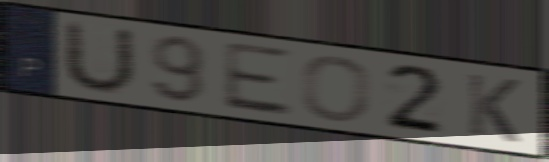2: (381, 62, 451, 137)
9: (147, 33, 209, 106)
E: (220, 38, 295, 119)
K: (465, 70, 523, 146)
O: (299, 53, 373, 124)
U: (59, 18, 139, 97)
